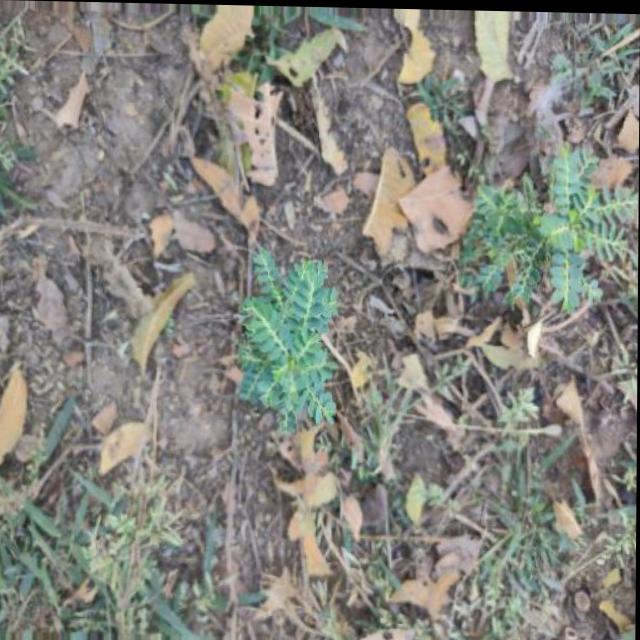weed: (464, 147, 629, 333), (225, 248, 347, 446)
